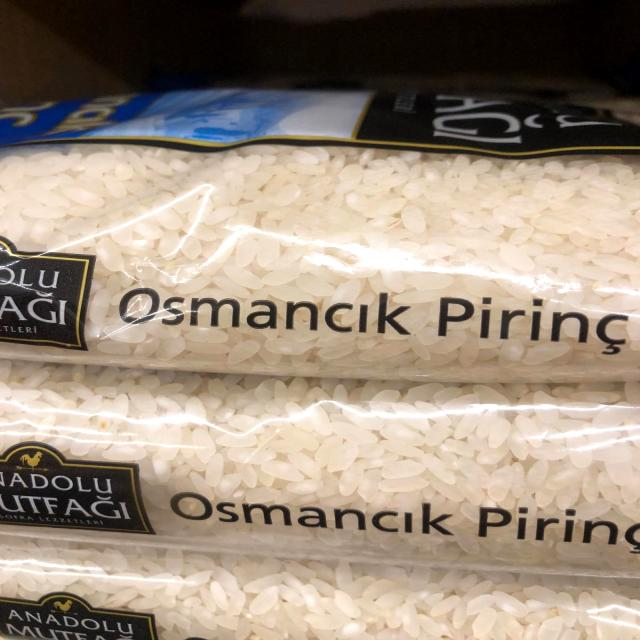rice: (0, 141, 640, 377), (1, 374, 640, 572), (0, 537, 640, 640)
